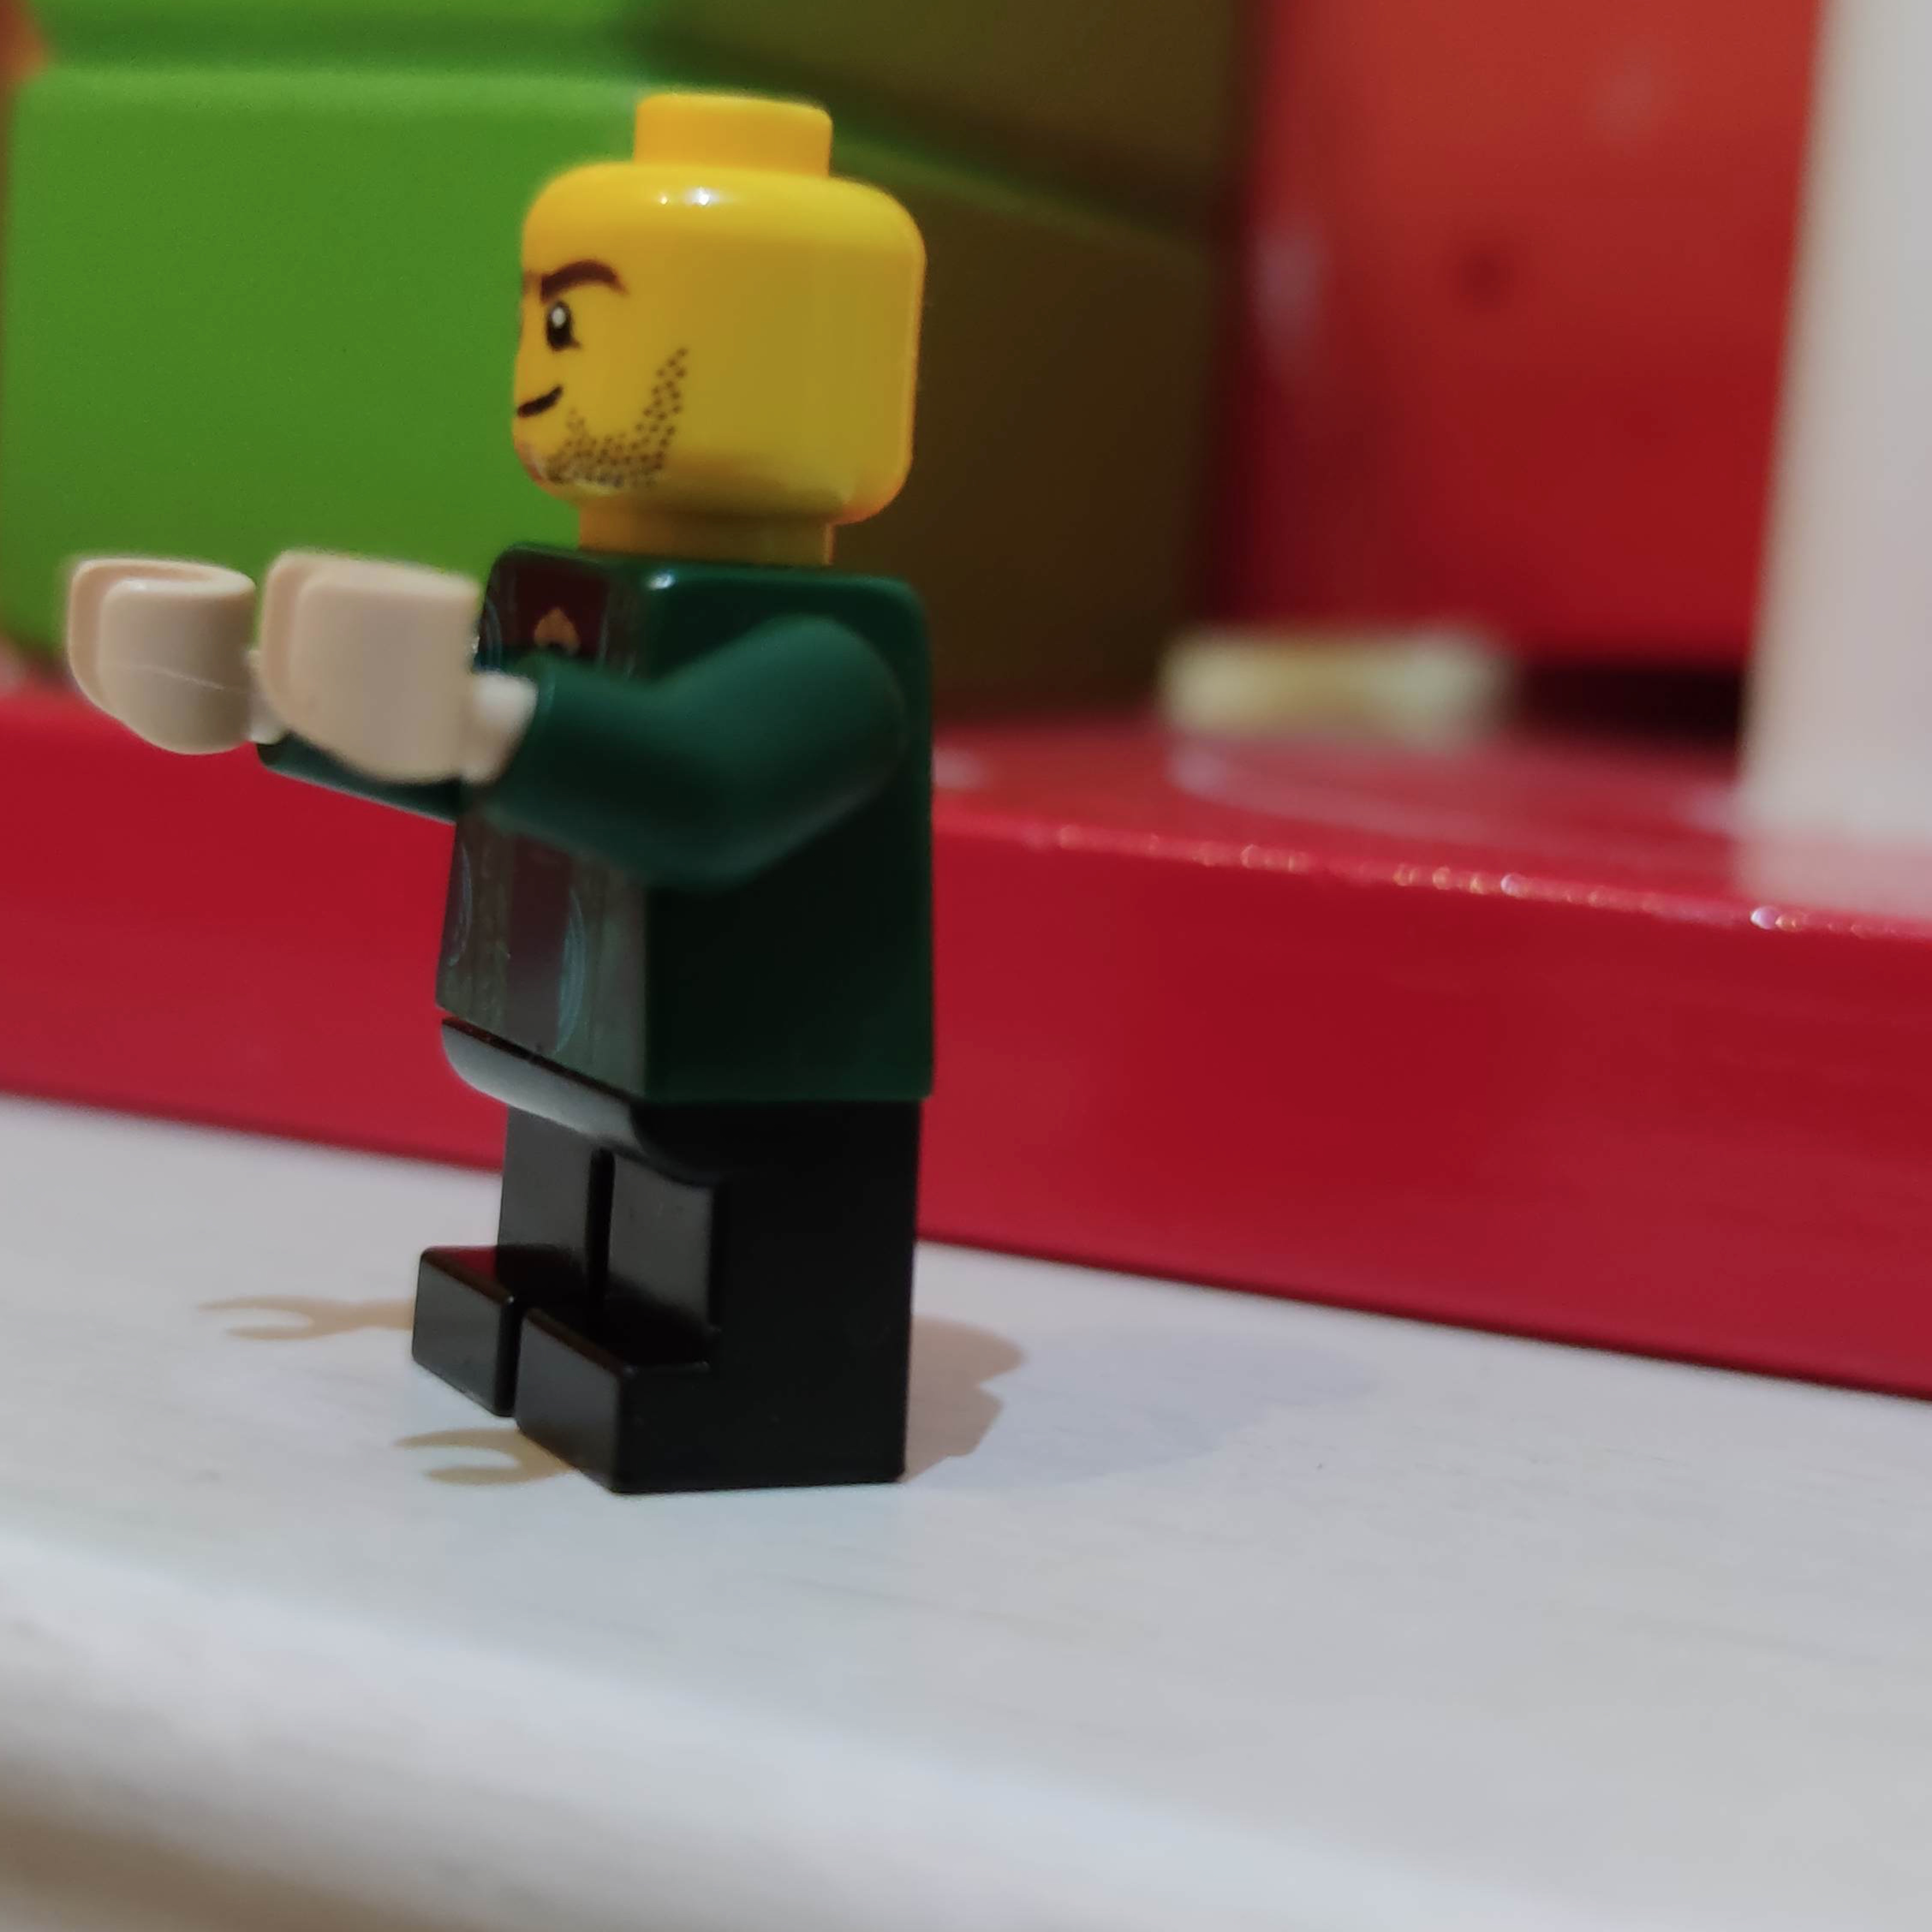lego: (60, 88, 929, 1486)
